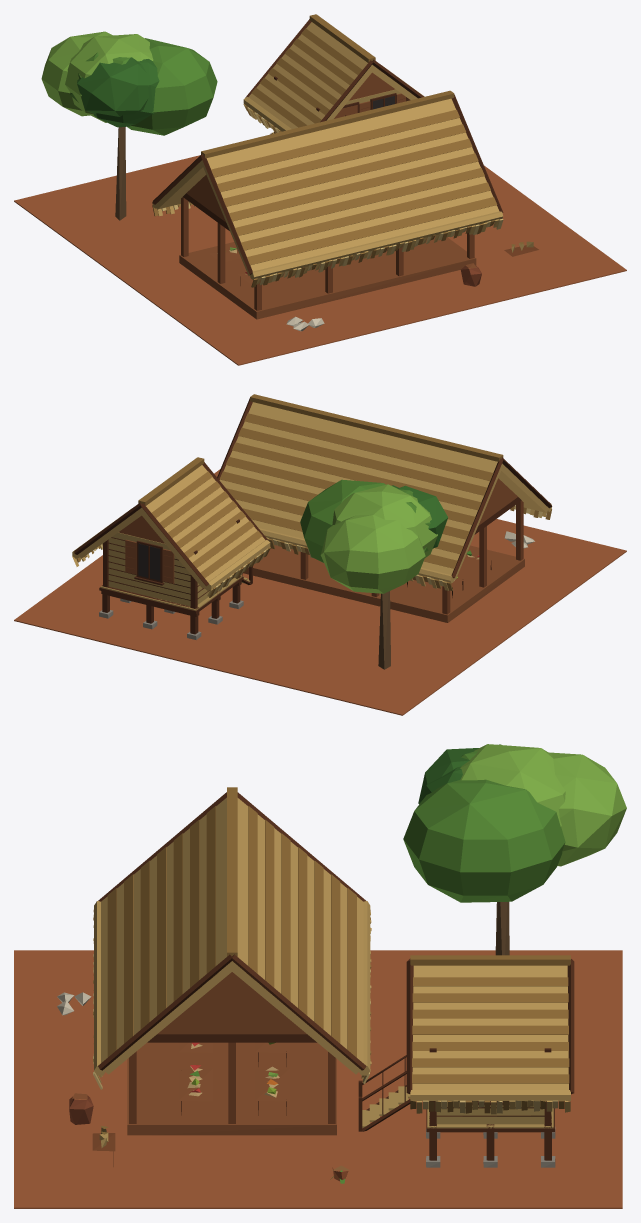
File: shop_3.glb
The picture shows the model from 3 angles, top to bottom: view 1: azimuth 30°, elevation 25°; view 2: azimuth 150°, elevation 25°; view 3: azimuth 270°, elevation 25°; orthographic projection. The views are drawn at different scales.
Parts seen in each view (by area): view 1: body; view 2: body, windows; view 3: body.
Part boxes in pixels (x1=…): body: x1=14, y1=14, x2=626, y2=365; body: x1=14, y1=394, x2=626, y2=715; windows: x1=138, y1=543, x2=160, y2=580; body: x1=14, y1=744, x2=626, y2=1208.
Bounding box in the file's own units: 15.9 × 7.17 × 16.01.
